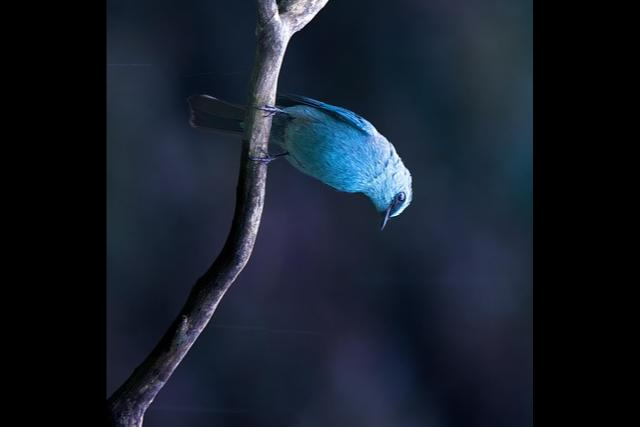Non_Gorille: (185, 0, 468, 345)
